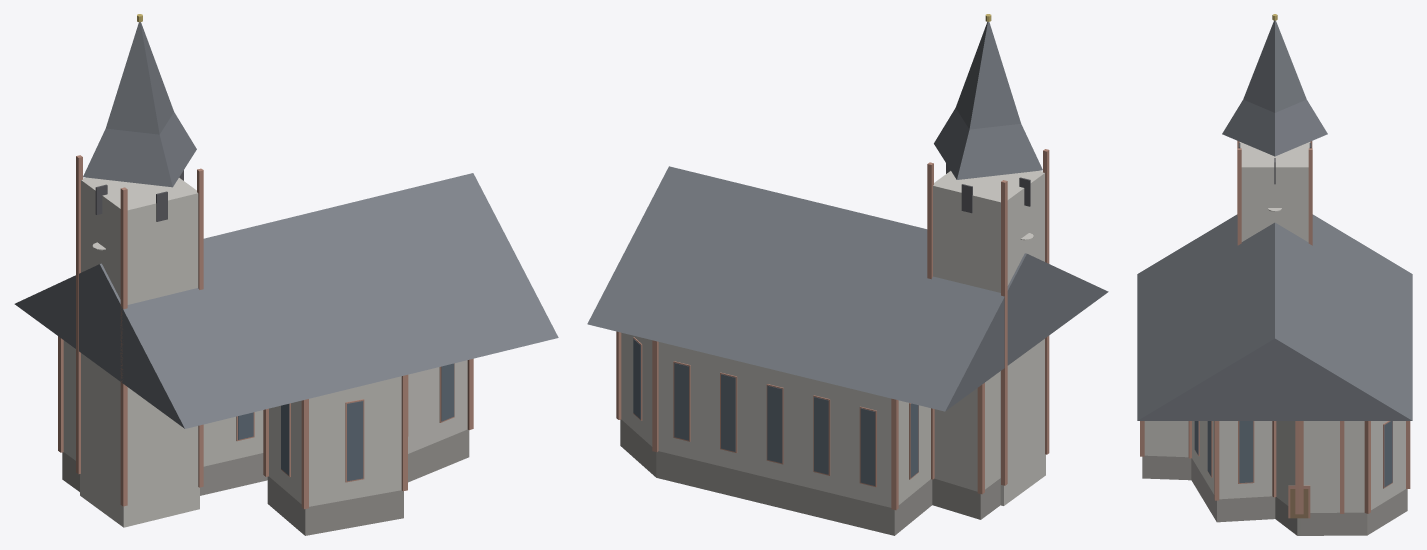
The model's file is landmark-muellheim-martinskirche.c92b189091.glb.
3 renders of one model, left to right at view 1: azimuth 30°, elevation 25°; view 2: azimuth 150°, elevation 25°; view 3: azimuth 270°, elevation 25°, orthographic. The views are drawn at different scales.
Visible parts, largest first — view 1: building; view 2: building; view 3: building.
Boxes of the visible parts, x1=… form: building: x1=14, y1=14, x2=558, y2=535; building: x1=587, y1=14, x2=1108, y2=535; building: x1=1137, y1=14, x2=1412, y2=535.
Bounding box in the file's own units: 35.91 × 42.8 × 27.22.
